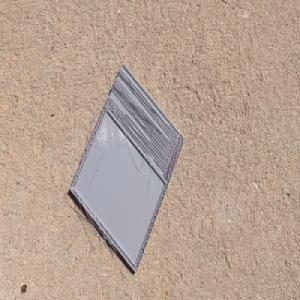PlasticPart: (67, 60, 186, 275)
